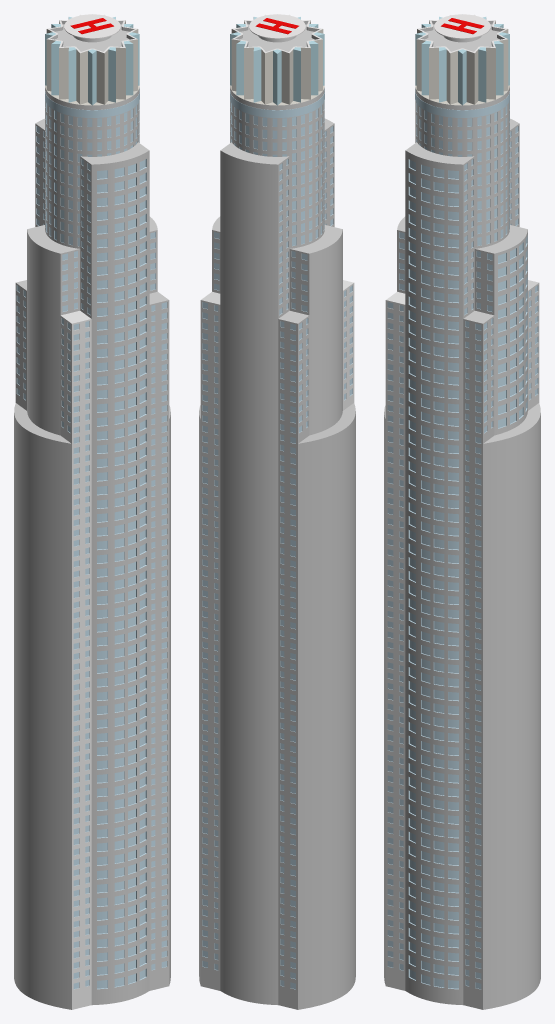
Rendered from maze_bank_tower_by_josh_shargo.glb.
3 views of the same model, side by side, from view 1: azimuth 30°, elevation 25°; view 2: azimuth 150°, elevation 25°; view 3: azimuth 330°, elevation 25° (orthographic).
Parts seen in each view (by area): view 1: Object_11, Object_8, Object_6, Object_13, Object_12, Object_5, Object_4, Object_9, Object_3, Object_7, Object_14; view 2: Object_11, Object_8, Object_10, Object_4, Object_6, Object_9, Object_5, Object_7, Object_3, Object_13, Object_14; view 3: Object_11, Object_6, Object_13, Object_5, Object_12, Object_4, Object_9, Object_3, Object_7, Object_10, Object_8, Object_14.
Boxes of the visible parts, box(x1,y1,x2,y2) form: Object_11: box(15, 20, 170, 1005); Object_8: box(14, 403, 71, 1009); Object_6: box(16, 92, 167, 970); Object_13: box(60, 311, 91, 1009); Object_12: box(149, 291, 169, 990); Object_5: box(36, 100, 154, 989); Object_4: box(36, 111, 167, 989); Object_9: box(45, 20, 139, 105); Object_3: box(45, 17, 139, 105); Object_7: box(45, 89, 139, 793); Object_14: box(64, 14, 120, 38); Object_11: box(199, 21, 342, 1009); Object_8: box(298, 403, 355, 1009); Object_10: box(200, 36, 296, 990); Object_4: box(202, 111, 324, 970); Object_6: box(230, 92, 324, 608); Object_9: box(230, 20, 324, 105); Object_5: box(230, 100, 352, 400); Object_7: box(230, 88, 324, 989); Object_3: box(230, 17, 324, 105); Object_13: box(343, 280, 354, 410); Object_14: box(249, 14, 305, 38); Object_11: box(397, 21, 540, 1009); Object_6: box(387, 92, 527, 989); Object_13: box(385, 291, 405, 990); Object_5: box(387, 101, 527, 970); Object_12: box(463, 311, 493, 1009); Object_4: box(408, 113, 538, 989); Object_9: box(415, 20, 509, 105); Object_3: box(415, 16, 509, 105); Object_7: box(387, 89, 527, 774); Object_10: box(443, 36, 539, 410); Object_8: box(384, 405, 385, 984); Object_14: box(434, 14, 490, 38).
Size of the model in its own units: 0.0212 by 0.1409 by 0.0173.
